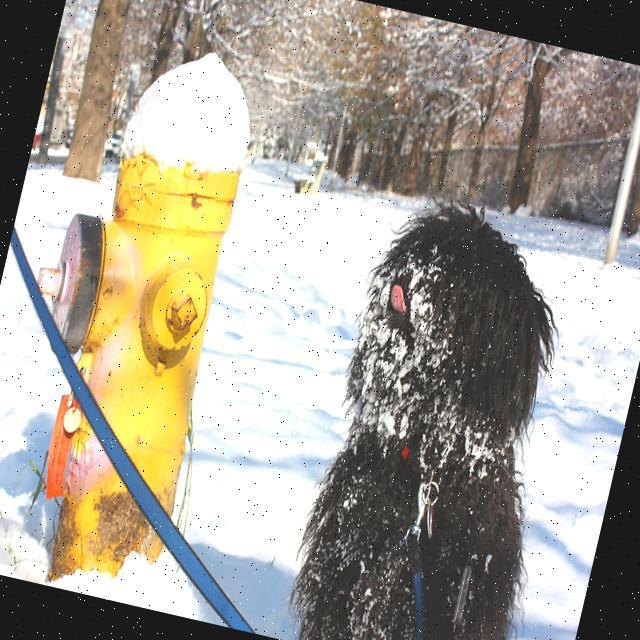fire_hydrant: (0, 20, 278, 600)
